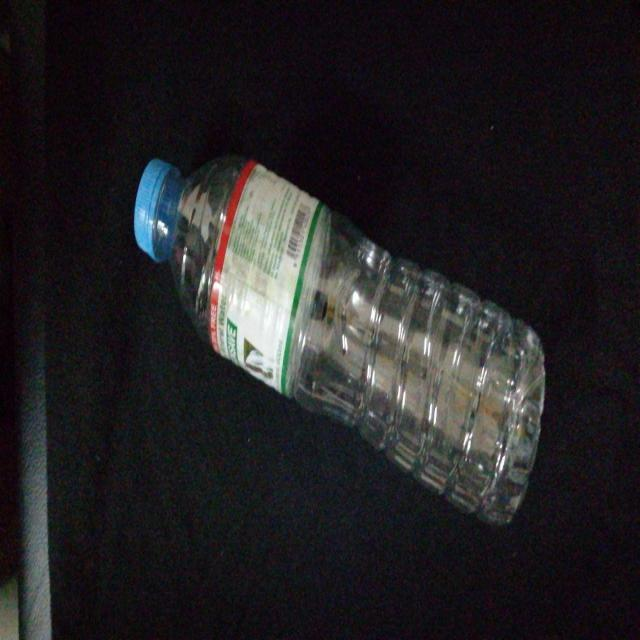Pet_Bottle: (136, 148, 544, 532)
